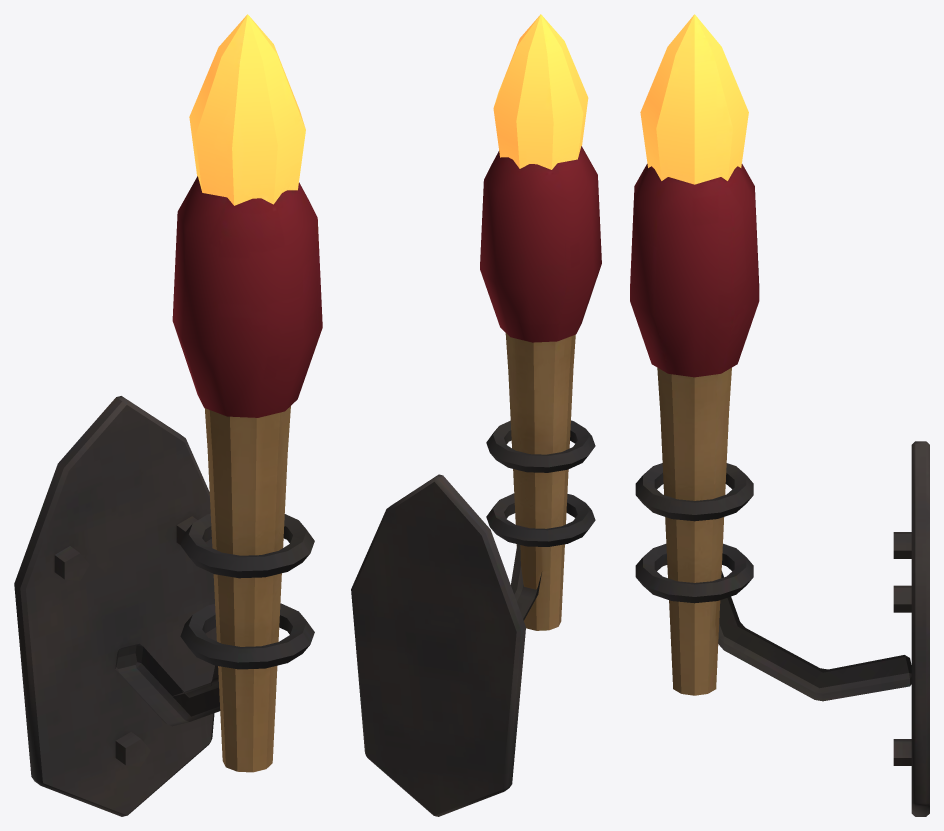
Rendered from torch_sconce.glb.
The picture shows the model from 3 angles, left to right: view 1: azimuth 30°, elevation 25°; view 2: azimuth 150°, elevation 25°; view 3: azimuth 270°, elevation 25°; orthographic projection. The views are drawn at different scales.
Visible parts, largest first — view 1: torch_sconce; view 2: torch_sconce; view 3: torch_sconce.
Boxes of the visible parts, left/top/right/bottom form: torch_sconce: left=14, top=14, right=322, bottom=816; torch_sconce: left=351, top=14, right=601, bottom=816; torch_sconce: left=630, top=14, right=929, bottom=816.
Size of the model in its own units: 0.24 by 0.9779 by 0.3313.
2 materials, 2 textured.
